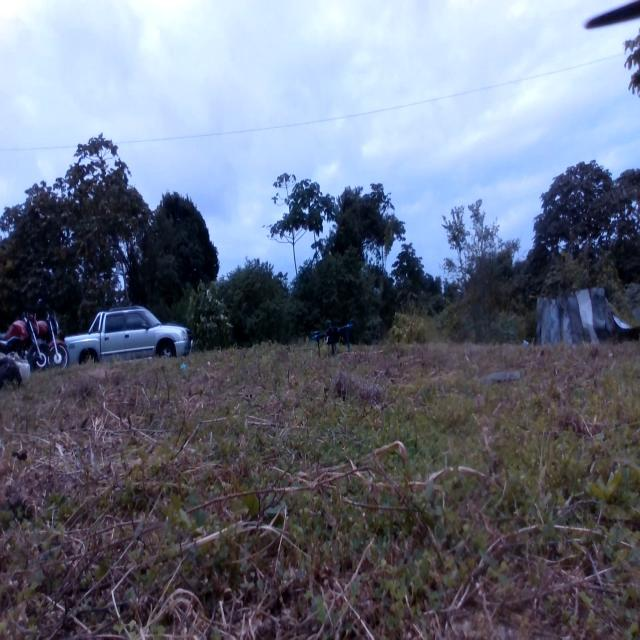-uav-: (306, 316, 358, 362)
